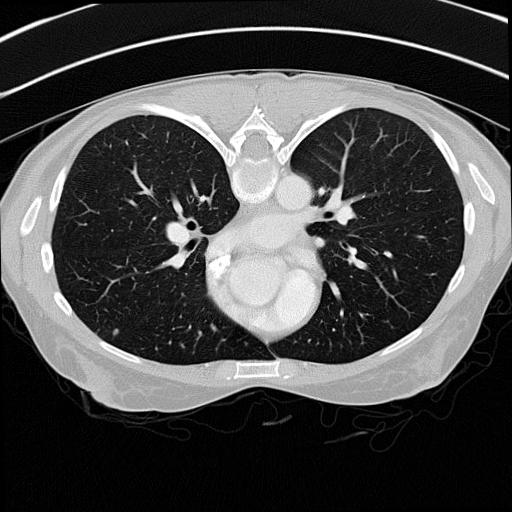nodule: (110, 328, 121, 339)
